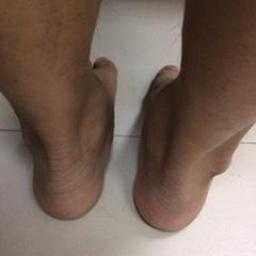Back View -Both Feet-: (10, 40, 252, 238)
